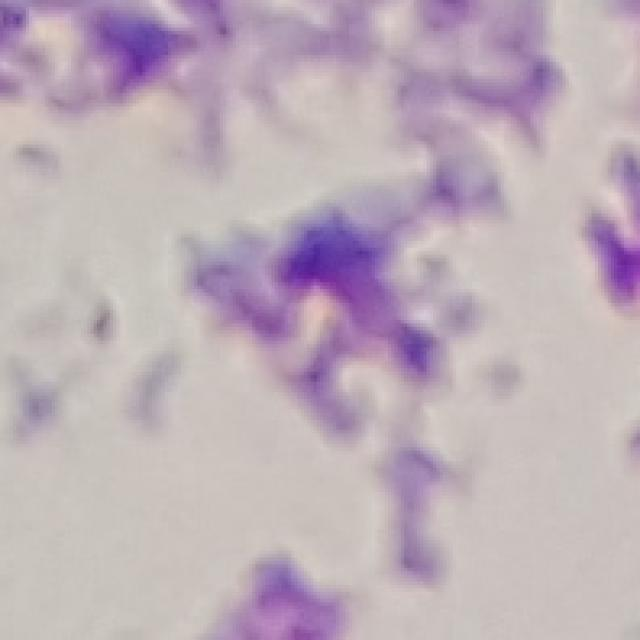non-sperm: (190, 216, 450, 431)
